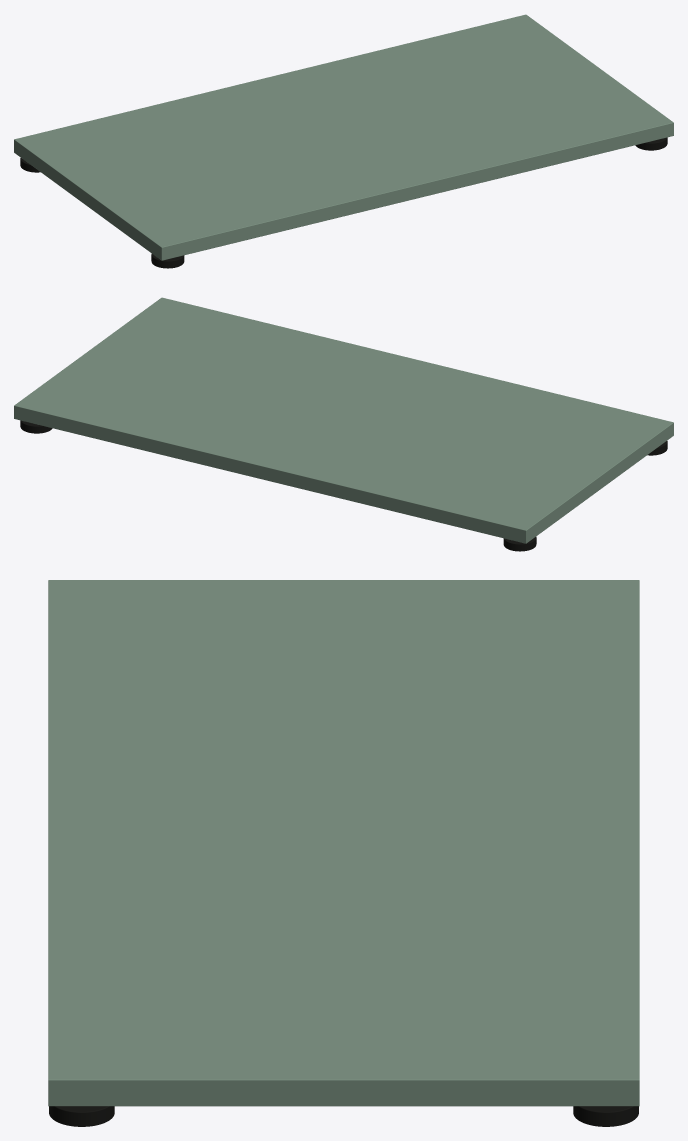
File: PLT_2X1_VA.glb
3 renders of one model, top to bottom at view 1: azimuth 30°, elevation 25°; view 2: azimuth 150°, elevation 25°; view 3: azimuth 270°, elevation 25°, orthographic. The views are drawn at different scales.
Bounding box in the file's own units: 720 × 32 × 360.
